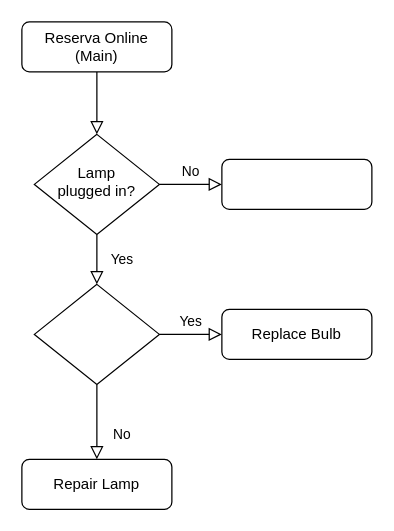
The diagram is 394 pixels wide and 531 high, and some of its shapes have lost their labels. The shapes that lost their labels are listed below. From the top down, each one's centre as x and y in pixels, then its label:
the point at 296,183: Plug in lamp
the point at 96,333: Bulb burned out?
